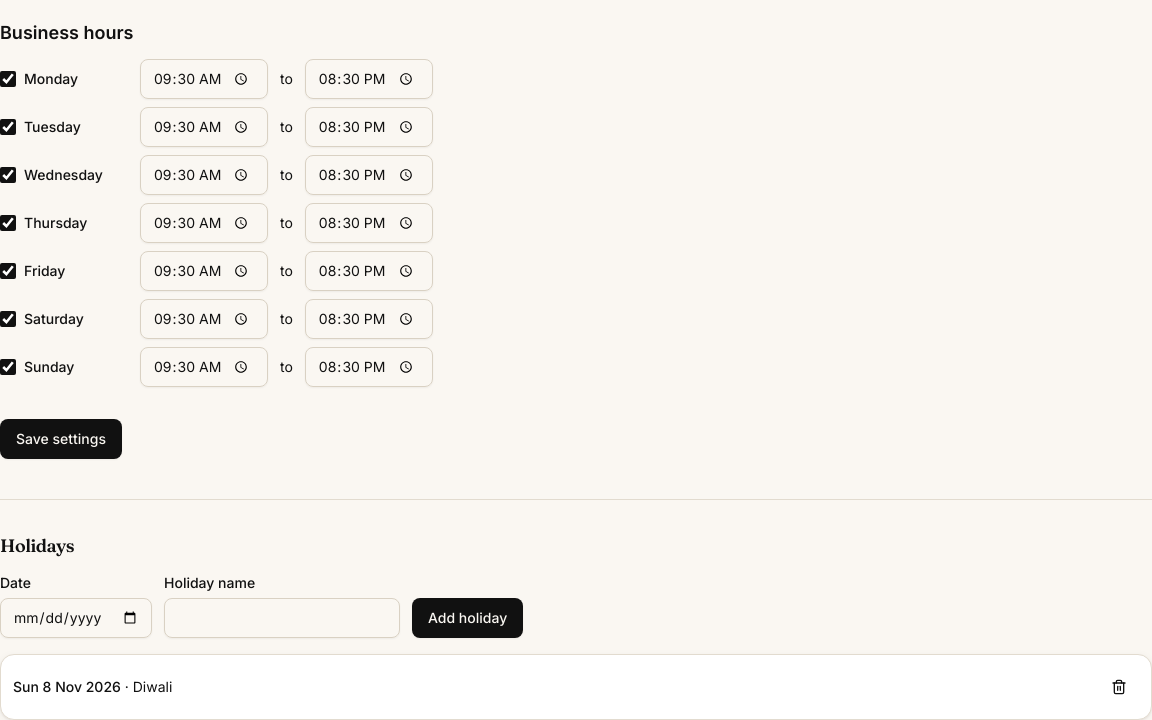
Scenario: settings (FR-080, API-017/018) and holidays (FR-022, API-019/020) › a duplicate holiday date is explained
The image size is (1152, 720).
(page scrolled)
Type "2026-11-08" into the date field labelled "Date" at x=76, y=618, box [0,598,152,638]
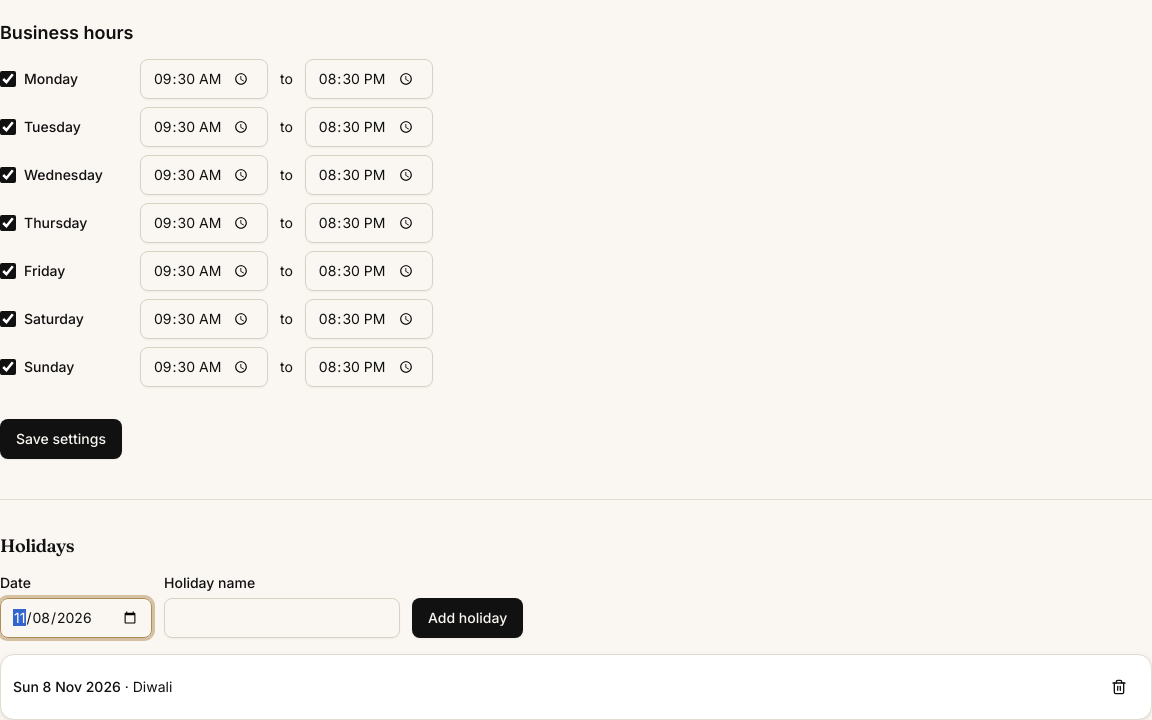
Type "Diwali again" into the field labelled "Holiday name" at x=282, y=618, box [164,598,400,638]
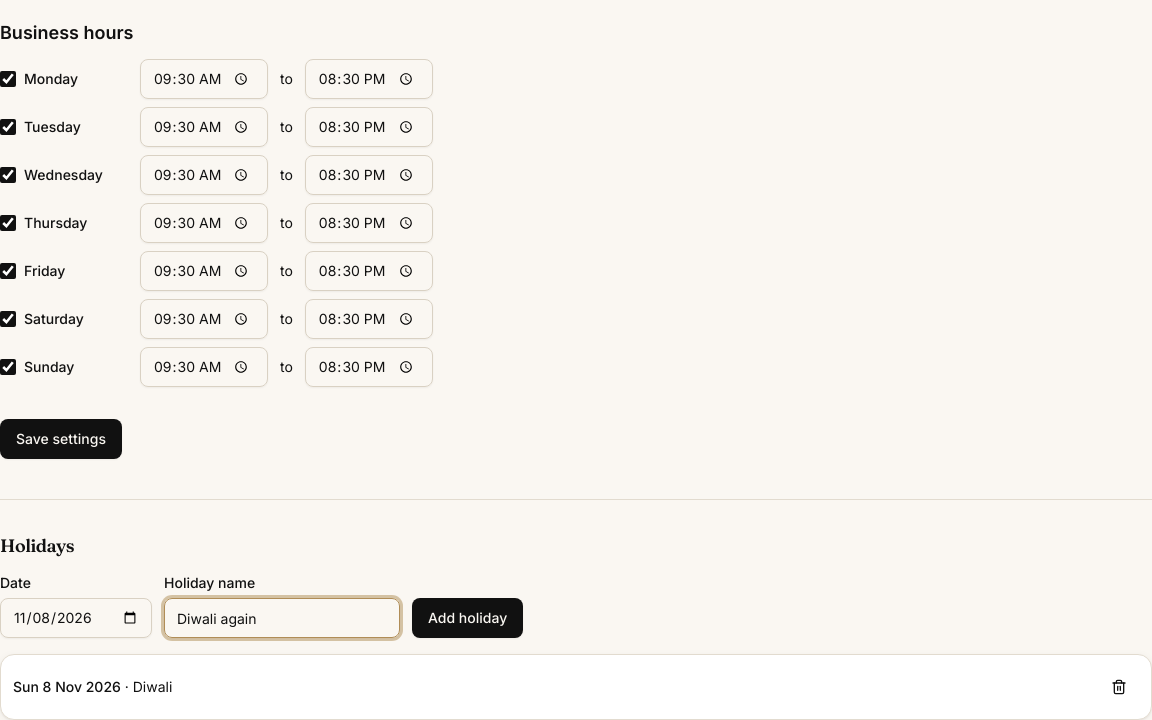
Click the button "Add holiday" at x=468, y=618, box [412,598,523,638]
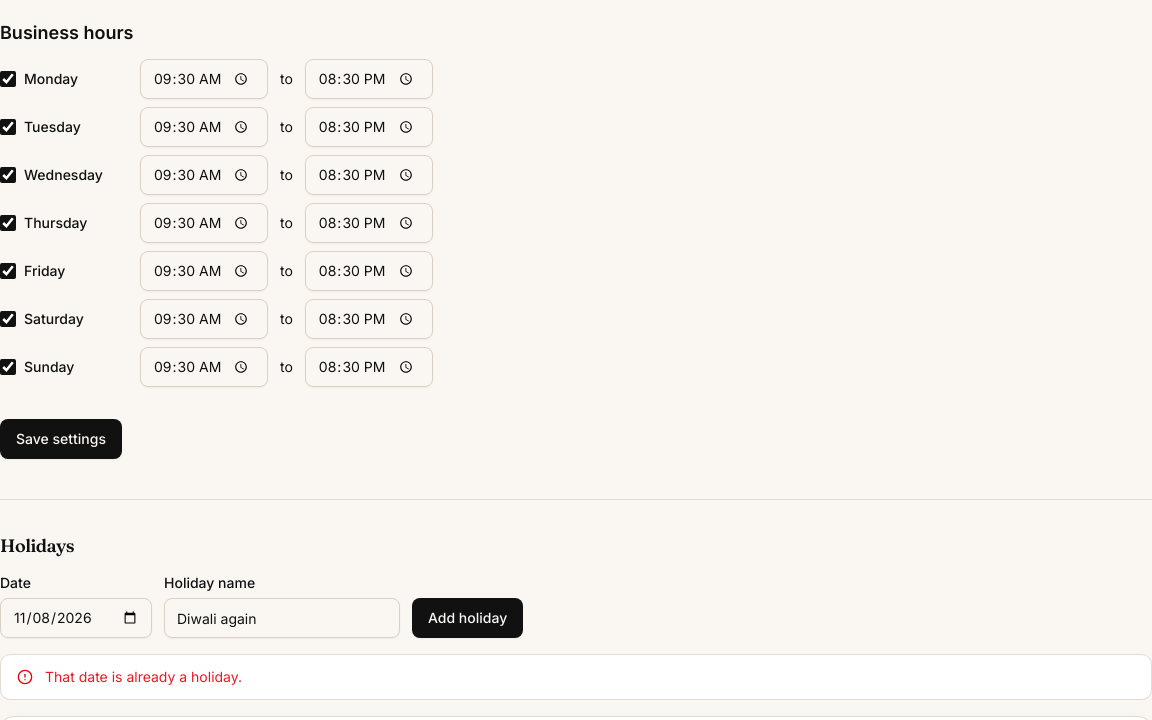
Result: the text "That date is already a holiday." is shown at [45,668,242,685]
